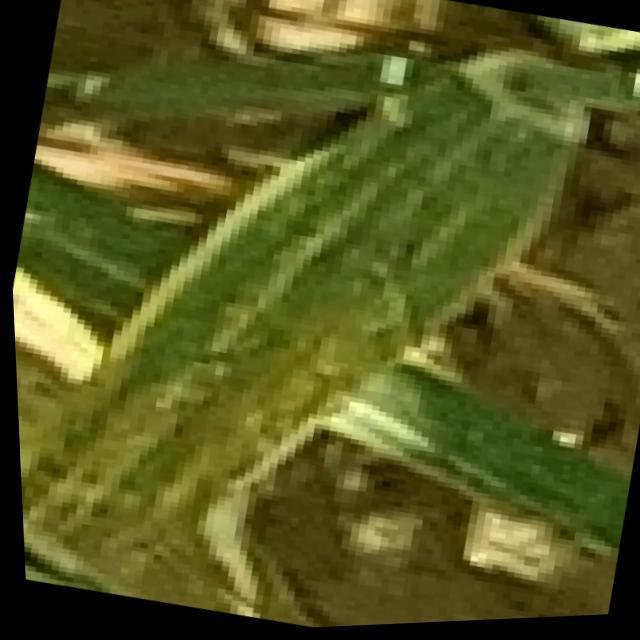Yellow_Rust: (79, 28, 553, 588)
